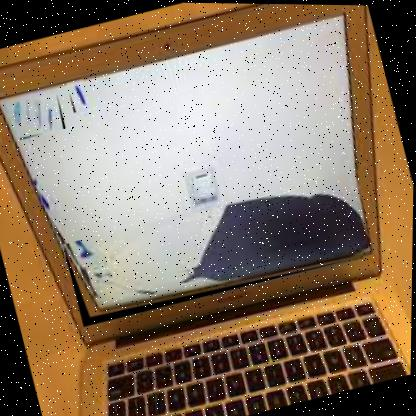crack: (62, 166, 378, 331)
spot: (10, 91, 66, 141), (66, 78, 91, 114)
